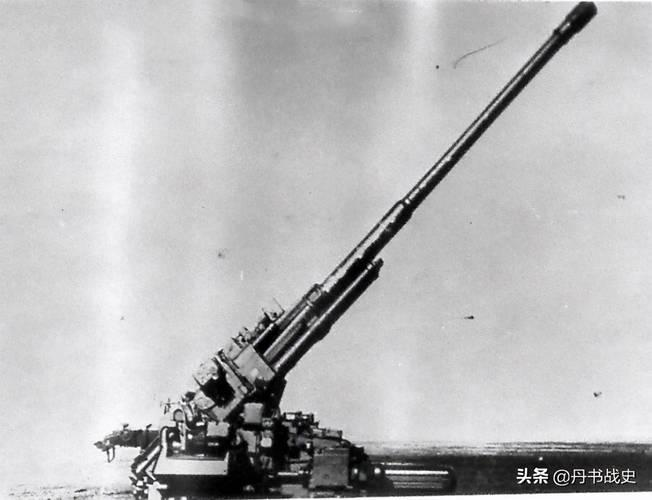MIL_SPG: (97, 3, 596, 499)
